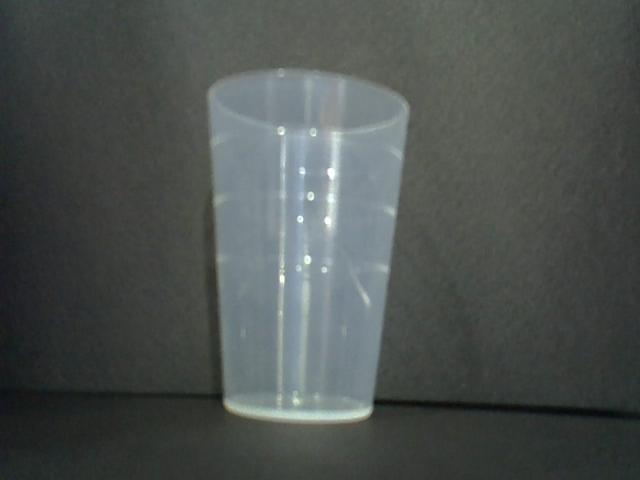cup: (200, 66, 412, 428)
